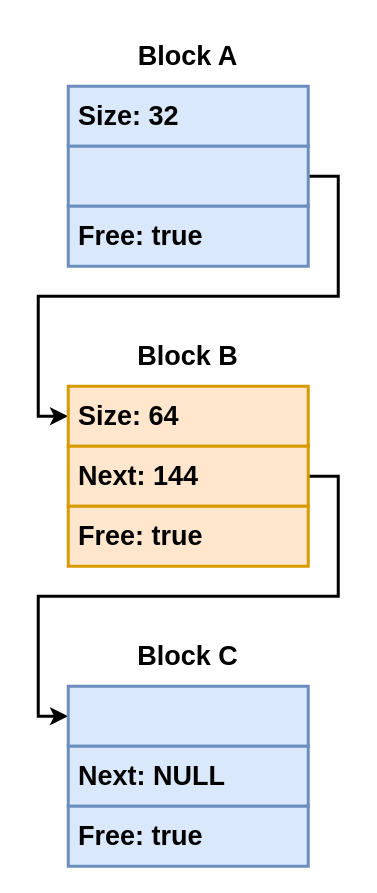
The diagram is 377 pixels wide and 893 high, and some of its shapes have lost their labels. Each missing label, with the box of its shape:
Next: 56: (66, 144, 309, 207)
Size: 16: (66, 684, 309, 747)
